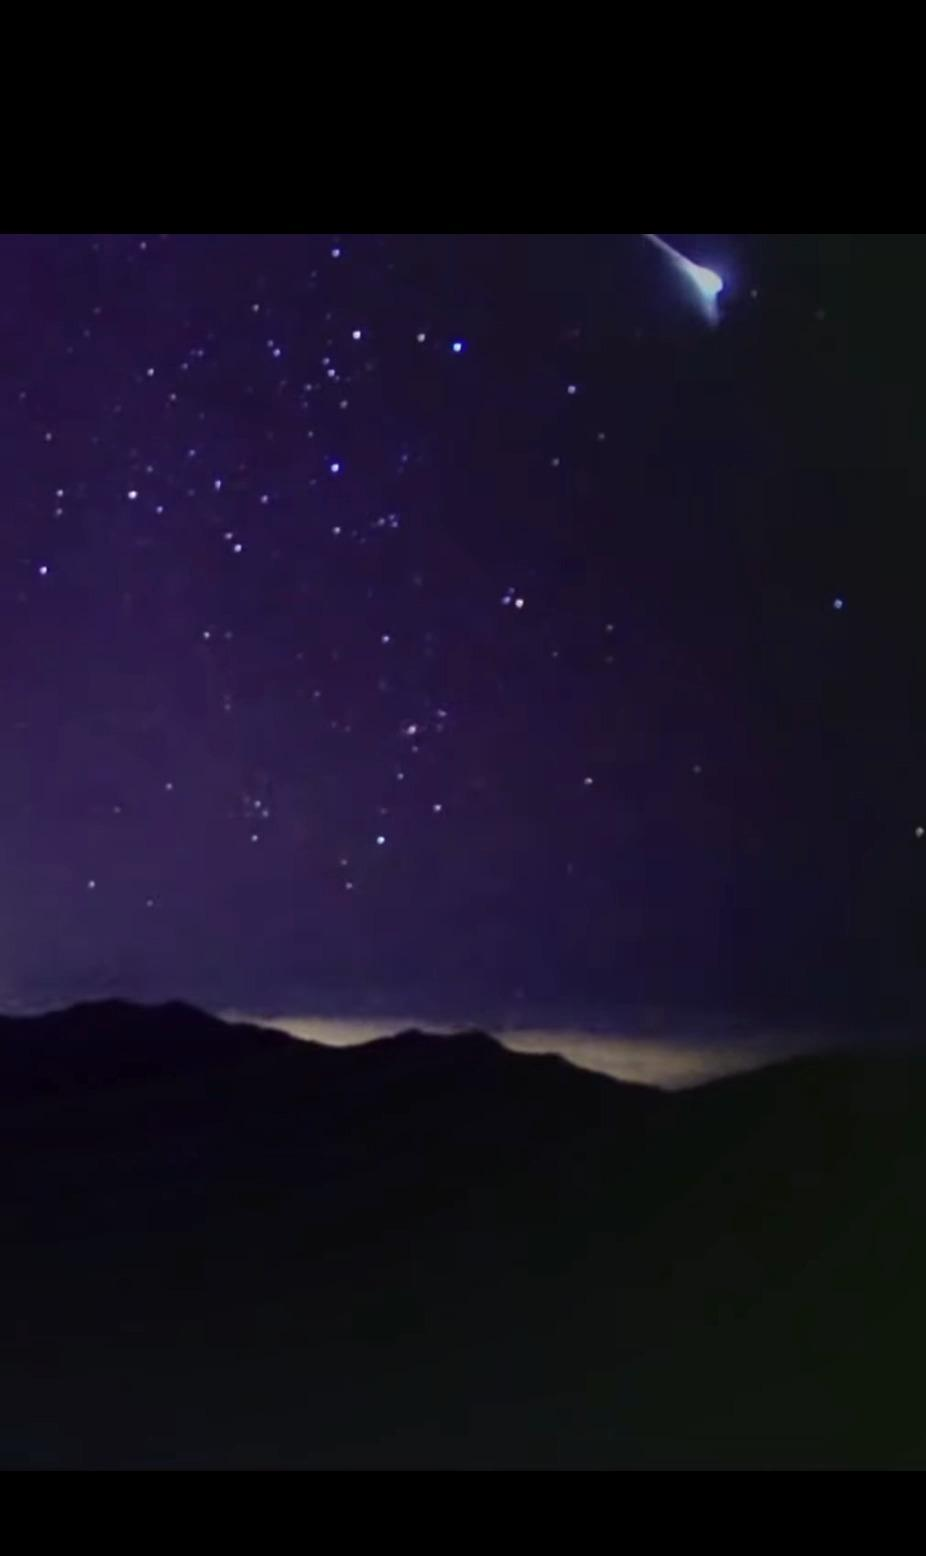meteorite: (629, 225, 753, 335)
